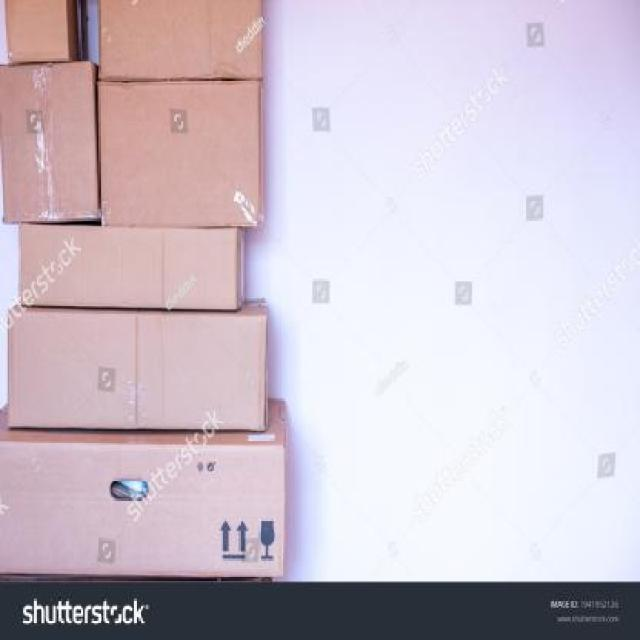BoxFace: (0, 440, 280, 578), (7, 308, 266, 432), (97, 76, 260, 226), (18, 224, 238, 314), (1, 60, 94, 223), (97, 0, 259, 75), (5, 0, 67, 62)
